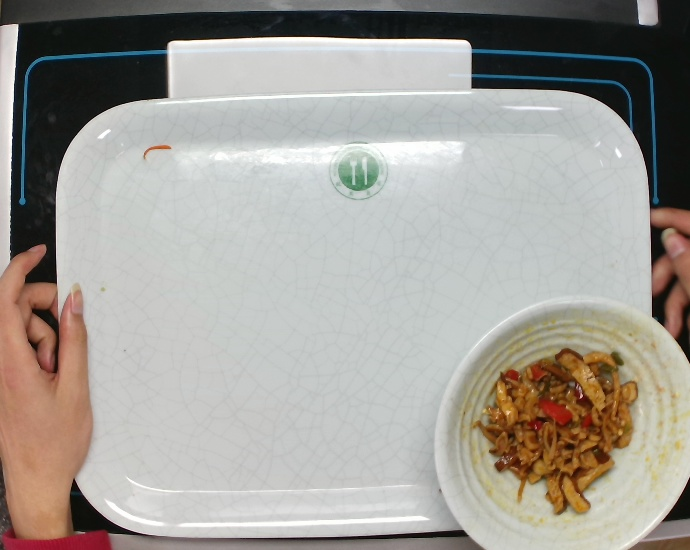JYsf-Xiao_Tang_Wan: (431, 293, 689, 550)
